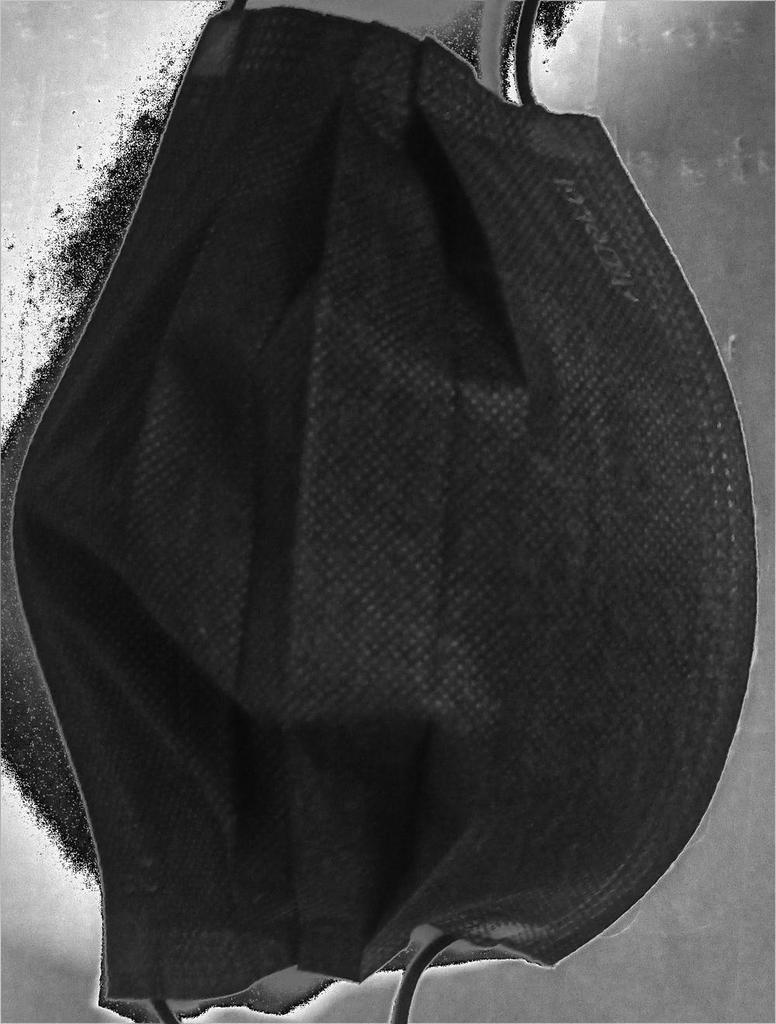Low GSM: (17, 9, 750, 987)
